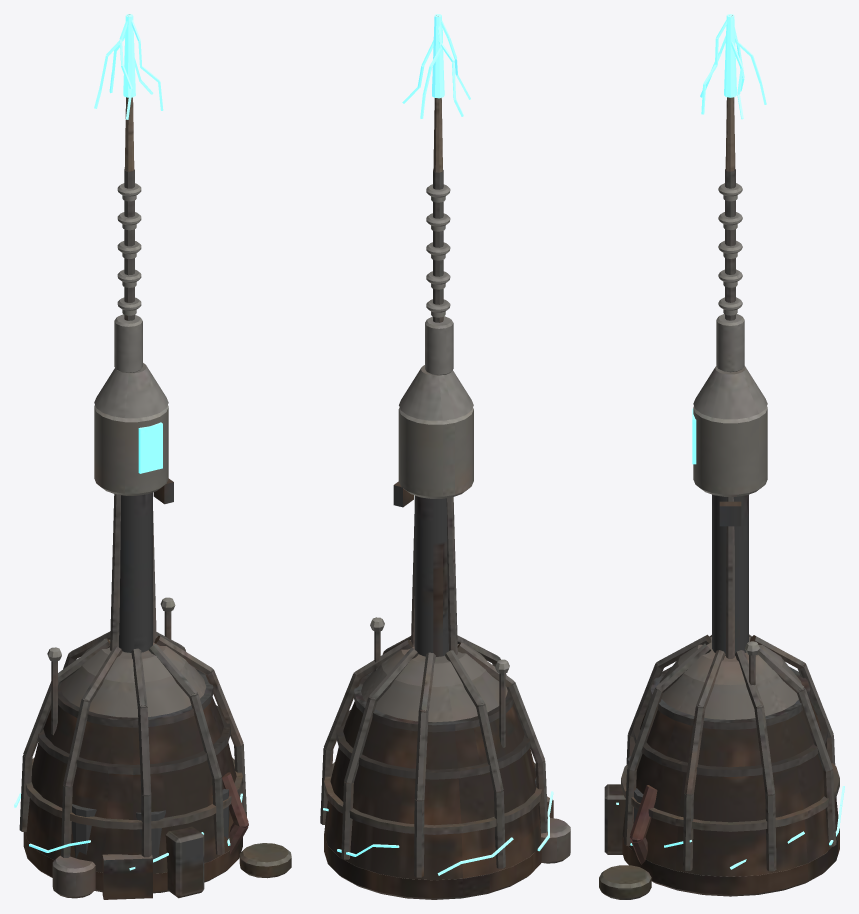
The model's file is lightning-collector.glb.
The picture shows the model from 3 angles, left to right: view 1: azimuth 30°, elevation 25°; view 2: azimuth 150°, elevation 25°; view 3: azimuth 270°, elevation 25°; orthographic projection.
Parts seen in each view (by area): view 1: body, anim_lit_strike; view 2: body, anim_lit_strike; view 3: body, anim_lit_strike.
Part boxes in pixels (x1,y1,x2,y2): body: (19,14,291,899); anim_lit_strike: (14,14,242,870); body: (320,15,570,899); anim_lit_strike: (323,14,553,875); body: (599,15,839,899); anim_lit_strike: (616,14,844,869).
Bounding box in the file's own units: 2.18 × 8.41 × 2.24.
Materials: 3 (3 with a texture image).
